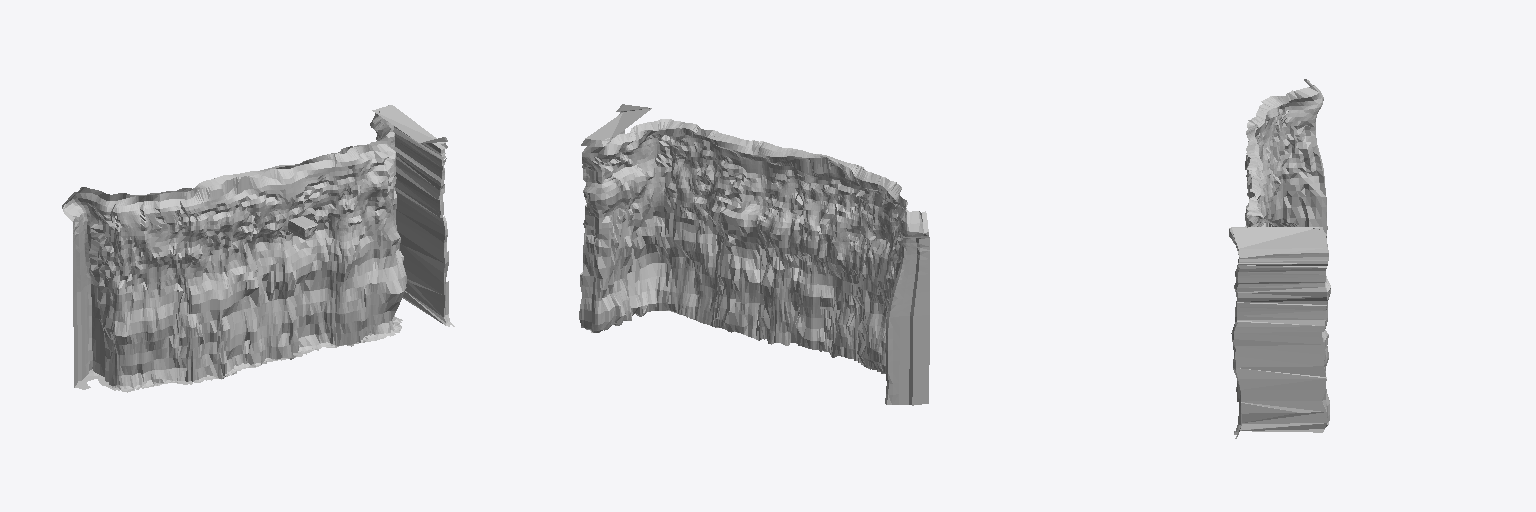
File: backwall2.obj
3 views of the same model, side by side, from view 1: azimuth 30°, elevation 25°; view 2: azimuth 150°, elevation 25°; view 3: azimuth 270°, elevation 25° (orthographic).
Visible parts, largest first — view 1: Mesh_Mesh_Mesh_Mesh_Mesh_eroded_plateau_hm.png_Mesh_Mesh_Me.000; view 2: Mesh_Mesh_Mesh_Mesh_Mesh_eroded_plateau_hm.png_Mesh_Mesh_Me.000; view 3: Mesh_Mesh_Mesh_Mesh_Mesh_eroded_plateau_hm.png_Mesh_Mesh_Me.000.
Part boxes in pixels (x1,y1,x2,y2): Mesh_Mesh_Mesh_Mesh_Mesh_eroded_plateau_hm.png_Mesh_Mesh_Me.000: (62, 105, 454, 392); Mesh_Mesh_Mesh_Mesh_Mesh_eroded_plateau_hm.png_Mesh_Mesh_Me.000: (579, 104, 929, 405); Mesh_Mesh_Mesh_Mesh_Mesh_eroded_plateau_hm.png_Mesh_Mesh_Me.000: (1229, 79, 1330, 438).
Size of the model in its own units: 1267 by 688 by 317.